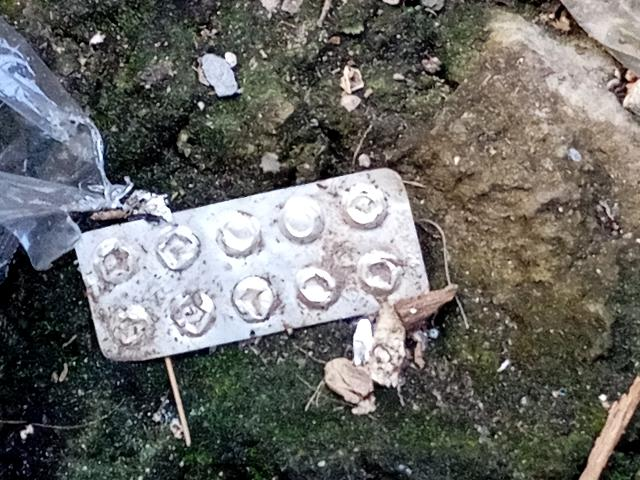medicine: (70, 146, 443, 369)
